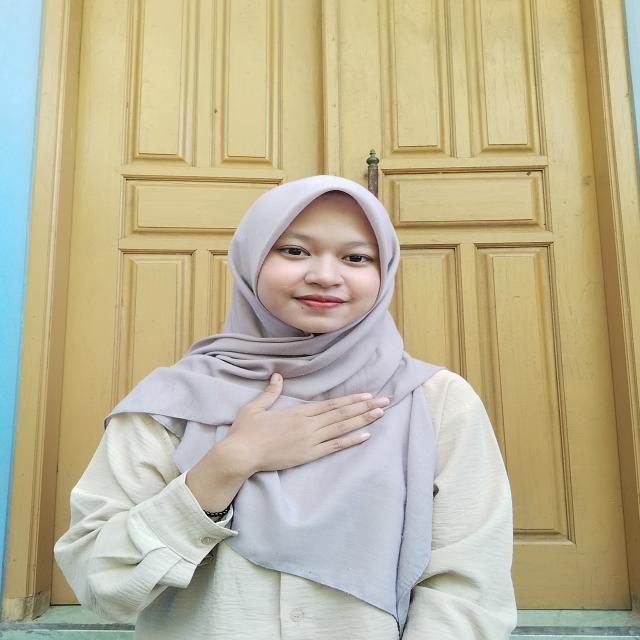tolong: (185, 371, 396, 502)
